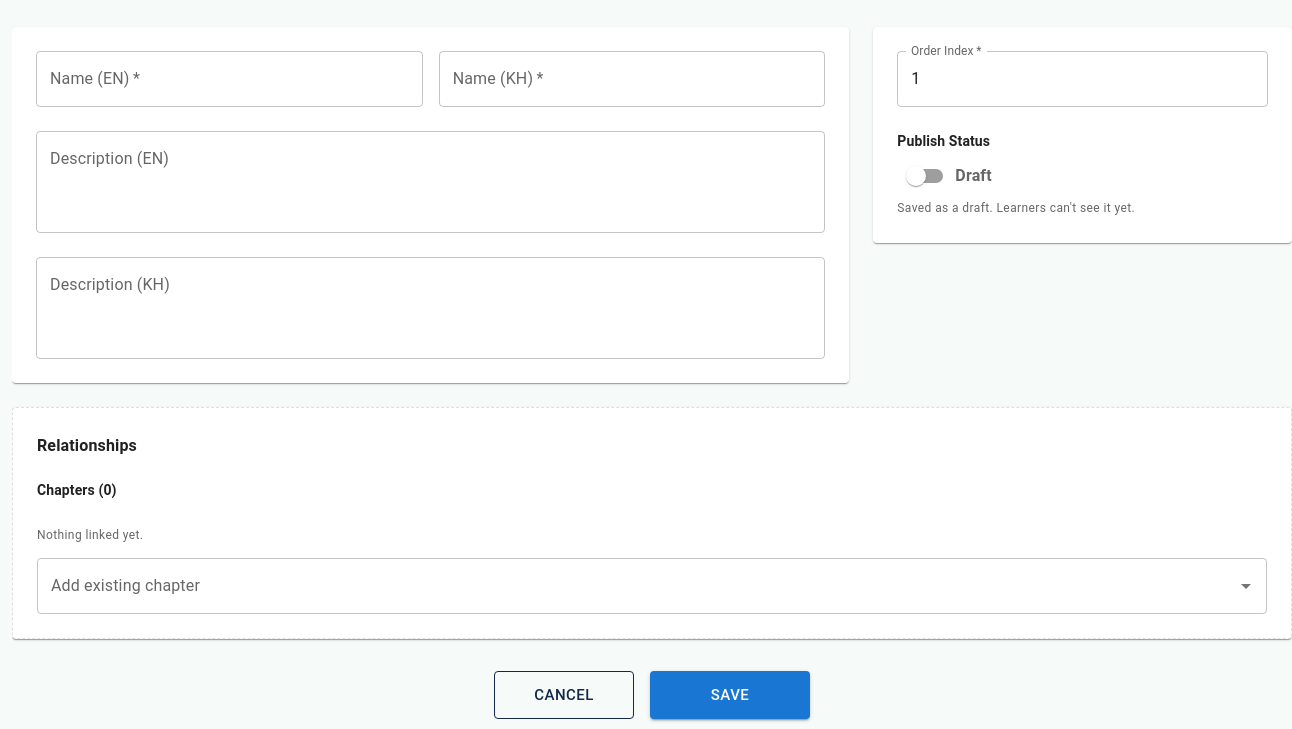
it: UnitFormPage relationships › stays on the form and keeps the chapter pending when moving it fails
The width and height of the screenshot is (1292, 729).
Type "Basics" into the field labelled "Name (EN) *" at (229, 79), box 36,51 -> 423,107
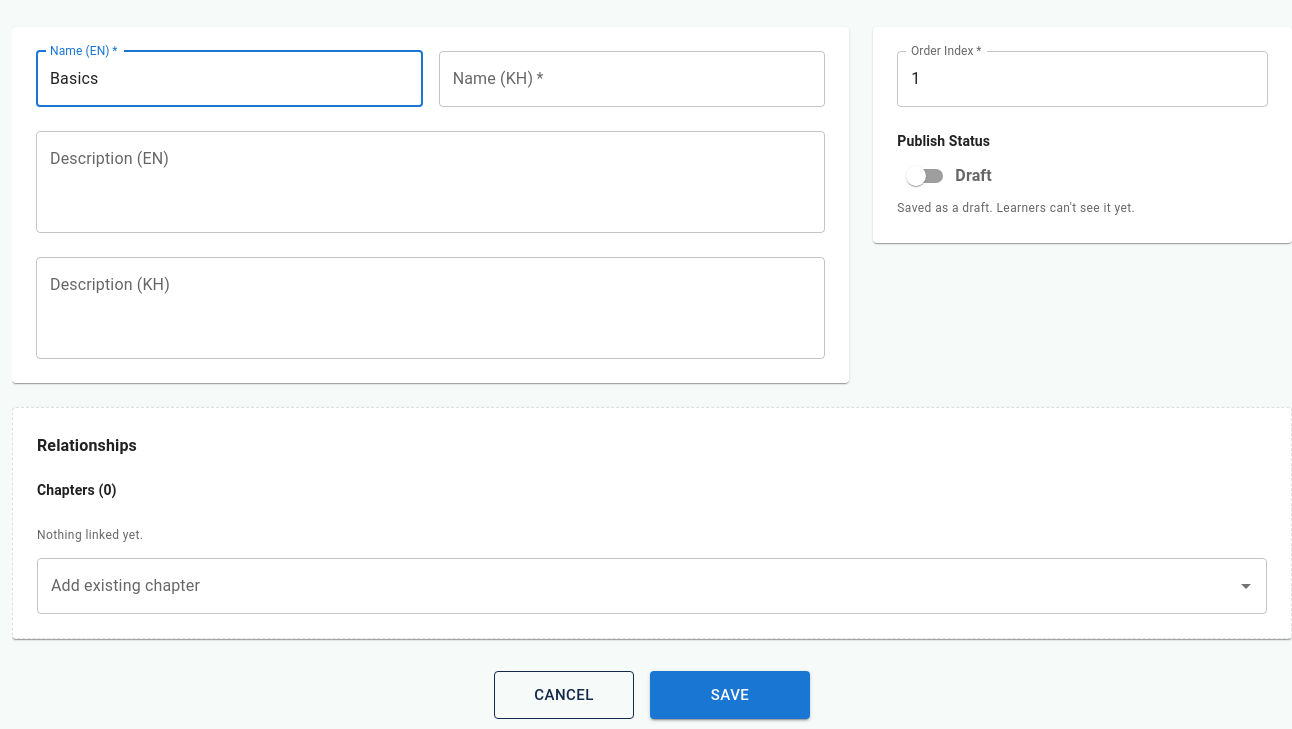
Type "មូលដ្ឋាន" into the field labelled "Name (KH) *" at (632, 79), box 439,51 -> 825,107
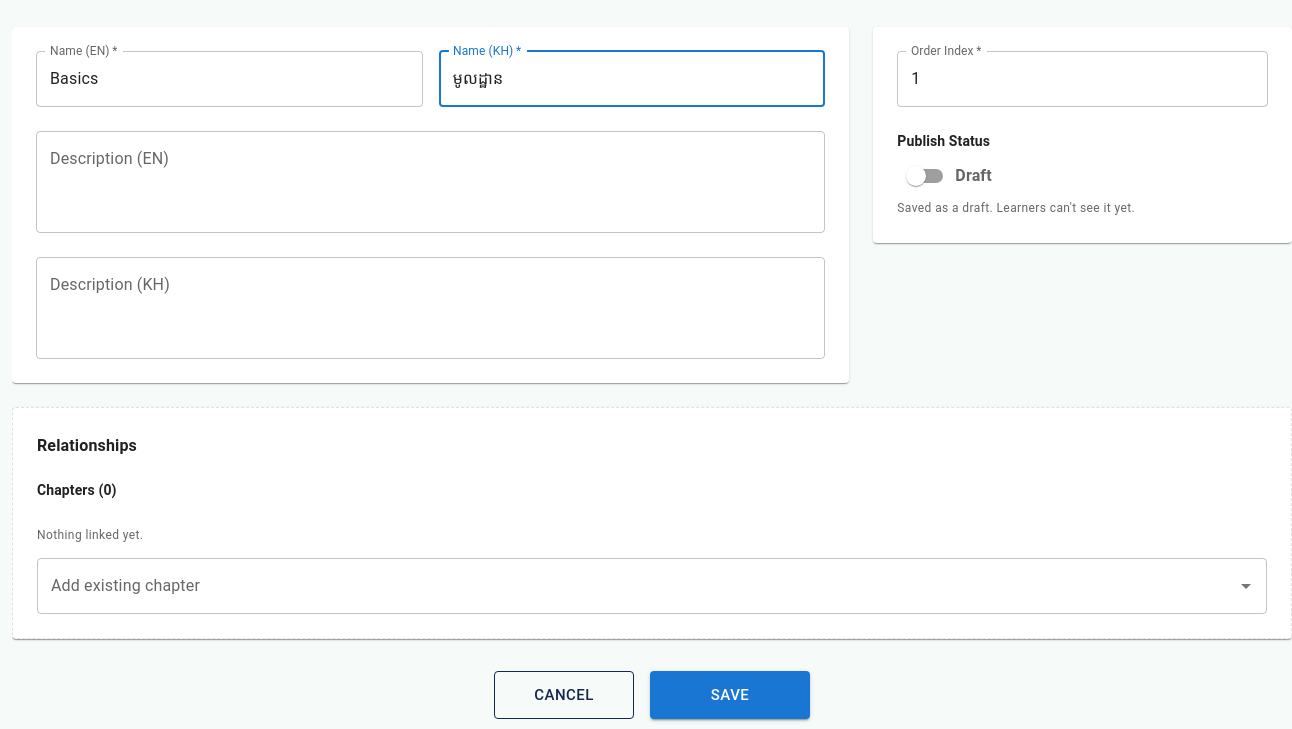
Click the dropdown labelled "Add existing chapter" at (637, 586), box 46,567 -> 1228,605
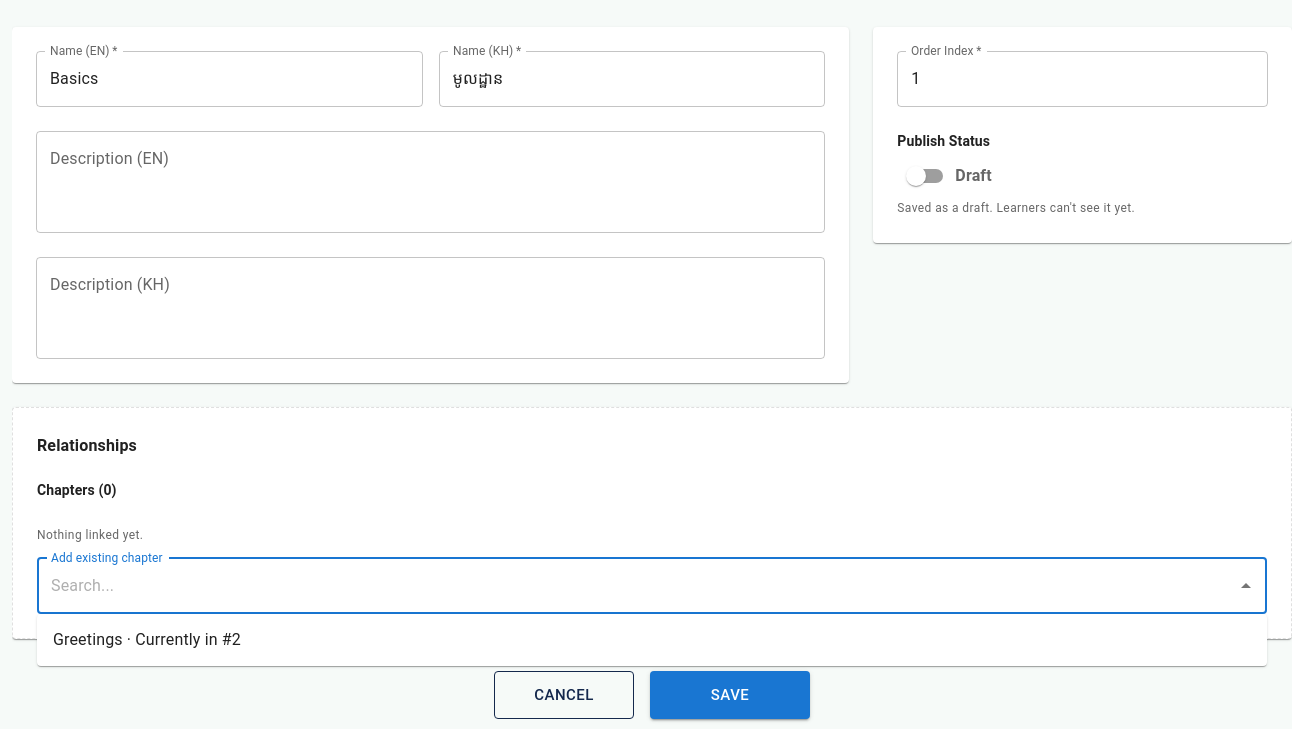
Click the option "Greetings · Currently in #2" at (147, 640), box 53,630 -> 241,649
(page scrolled)
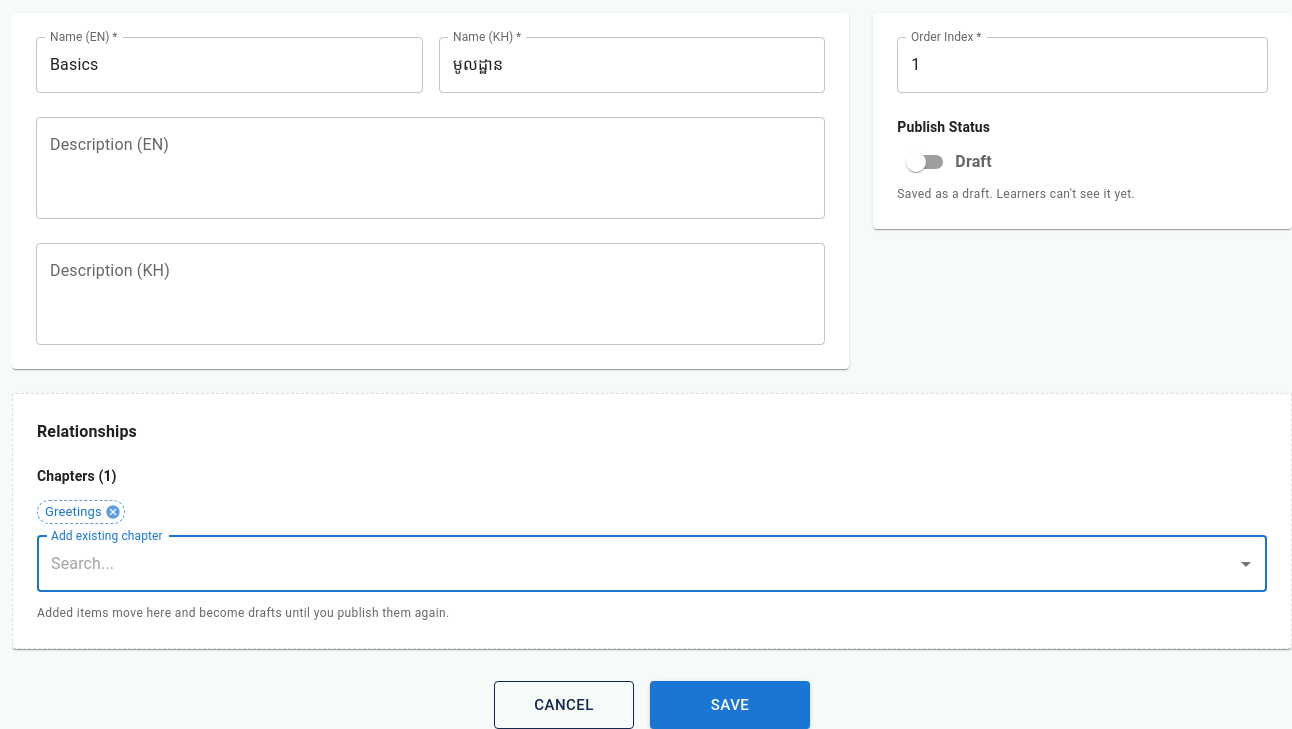
Click the button "Save" at (730, 705), box 650,681 -> 810,728
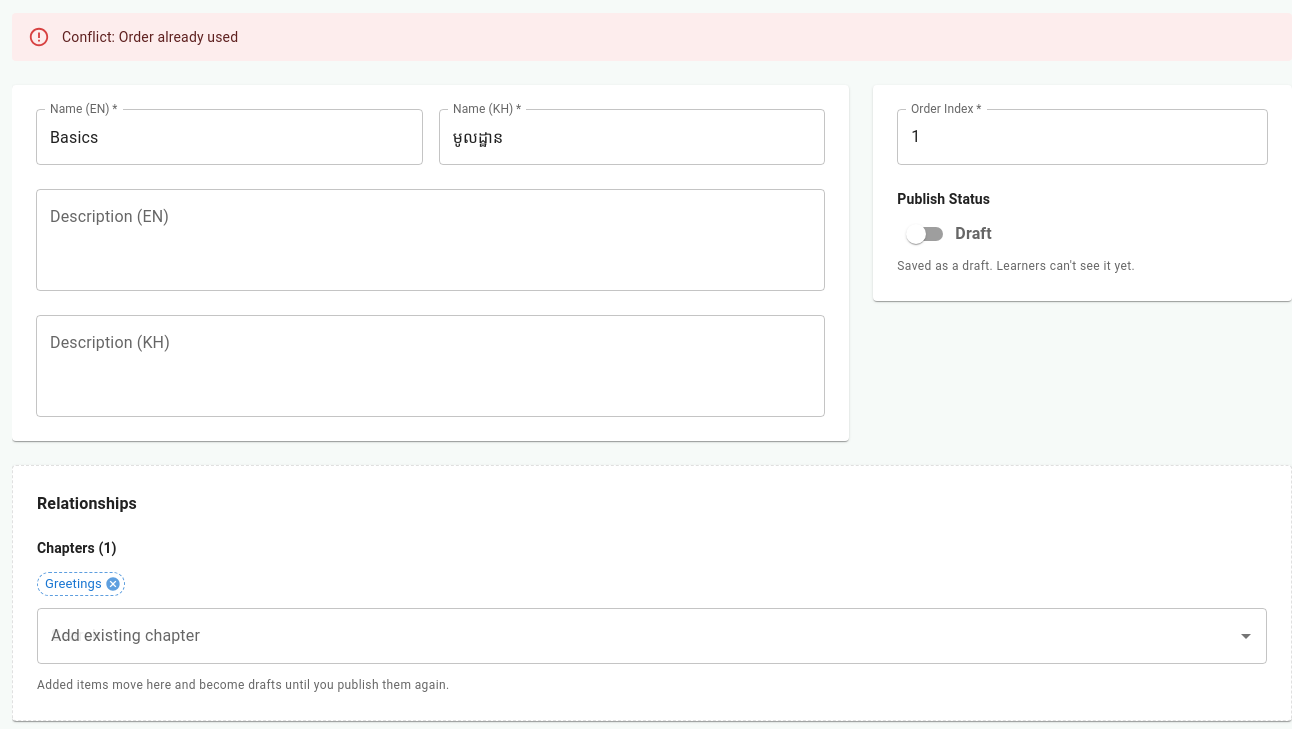
Check: the heading "Chapters (1)" is shown, box 37,540 -> 117,556
Check: the text "Conflict: Order already used" is shown, box 62,29 -> 238,45
